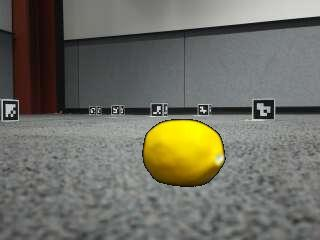lemon: (144, 120, 225, 186)
